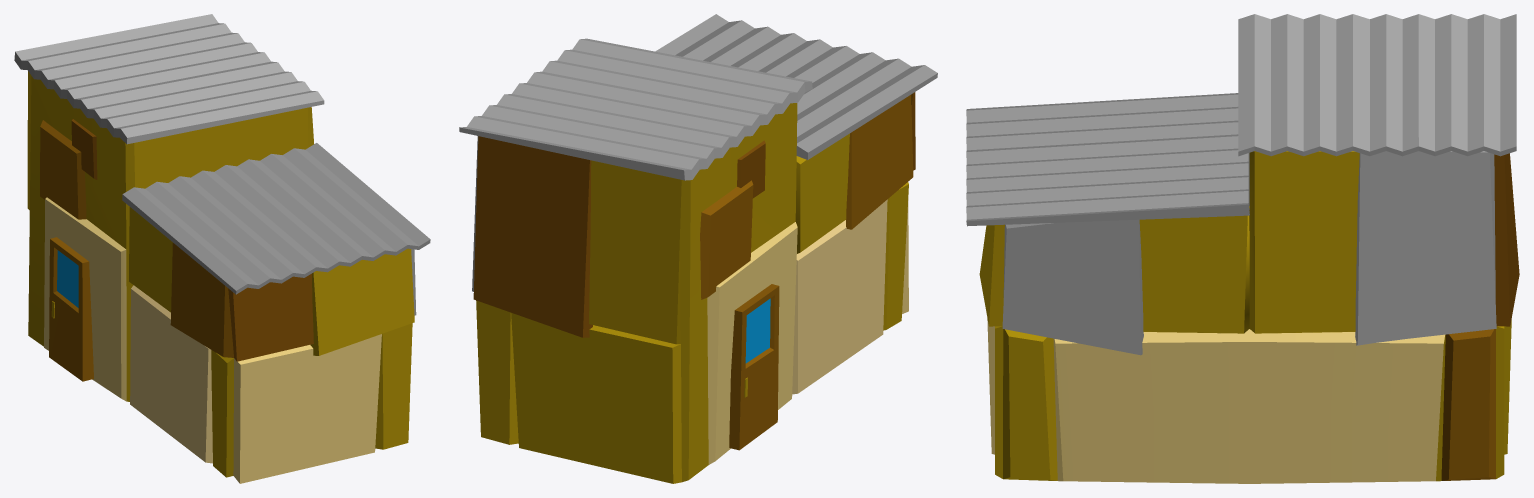
Rendered from House_2.fbx.
3 views of the same model, side by side, from view 1: azimuth 30°, elevation 25°; view 2: azimuth 150°, elevation 25°; view 3: azimuth 270°, elevation 25° (orthographic). The views are drawn at different scales.
Parts seen in each view (by area): view 1: House_2; view 2: House_2; view 3: House_2.
Part boxes in pixels (<box>): House_2: <box>14,14,430,483</box>; House_2: <box>459,14,937,483</box>; House_2: <box>966,14,1519,483</box>.
Size of the model in its own units: 581 by 756 by 1067.
